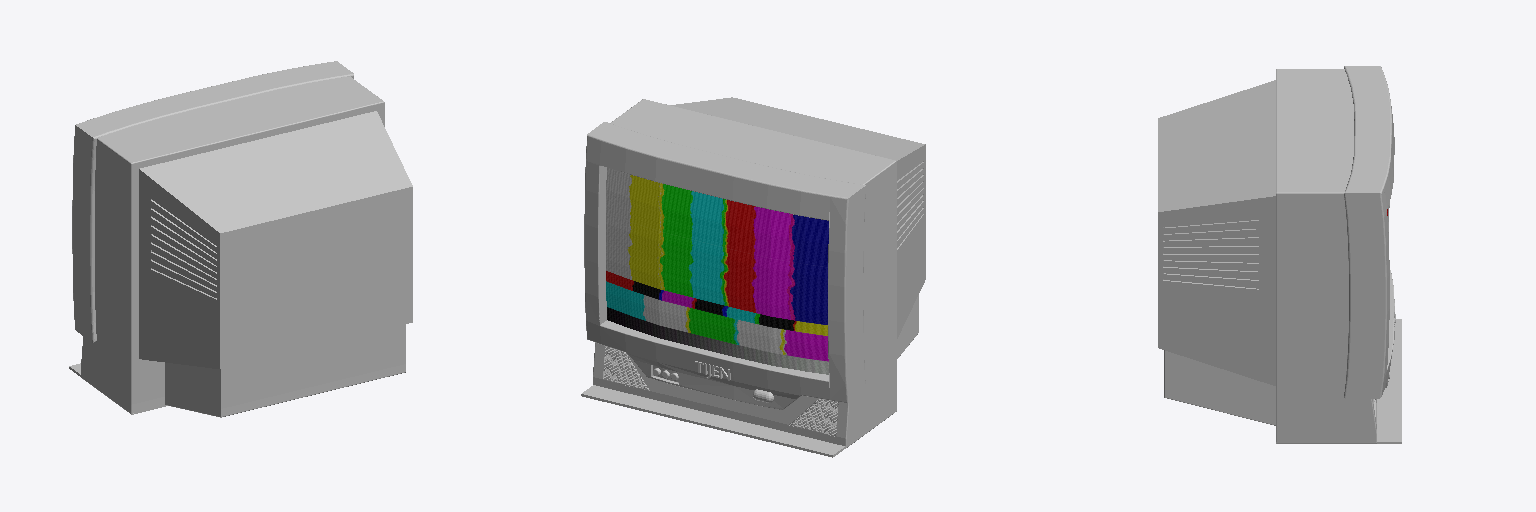
3 views of the same model, side by side, from view 1: azimuth 30°, elevation 25°; view 2: azimuth 150°, elevation 25°; view 3: azimuth 270°, elevation 25° (orthographic).
Visible parts, largest first — view 1: Plane.002, Plane, Cube; view 2: Cube, Plane, Plane.002, Plane.001; view 3: Plane, Plane.002, Cube.
Part boxes in pixels (left/top/right/bottom): Plane.002: left=139, top=111, right=412, bottom=368; Plane: left=69, top=77, right=405, bottom=417; Cube: left=72, top=61, right=353, bottom=342; Cube: left=584, top=122, right=865, bottom=409; Plane: left=581, top=99, right=918, bottom=457; Plane.002: left=671, top=97, right=925, bottom=338; Plane.001: left=603, top=346, right=838, bottom=436; Plane: left=1164, top=69, right=1401, bottom=443; Plane.002: left=1158, top=80, right=1275, bottom=385; Cube: left=1344, top=66, right=1394, bottom=398.
Size of the model in its own units: 0.4795 by 0.4431 by 0.3866.
Materials: 3 (1 with a texture image).